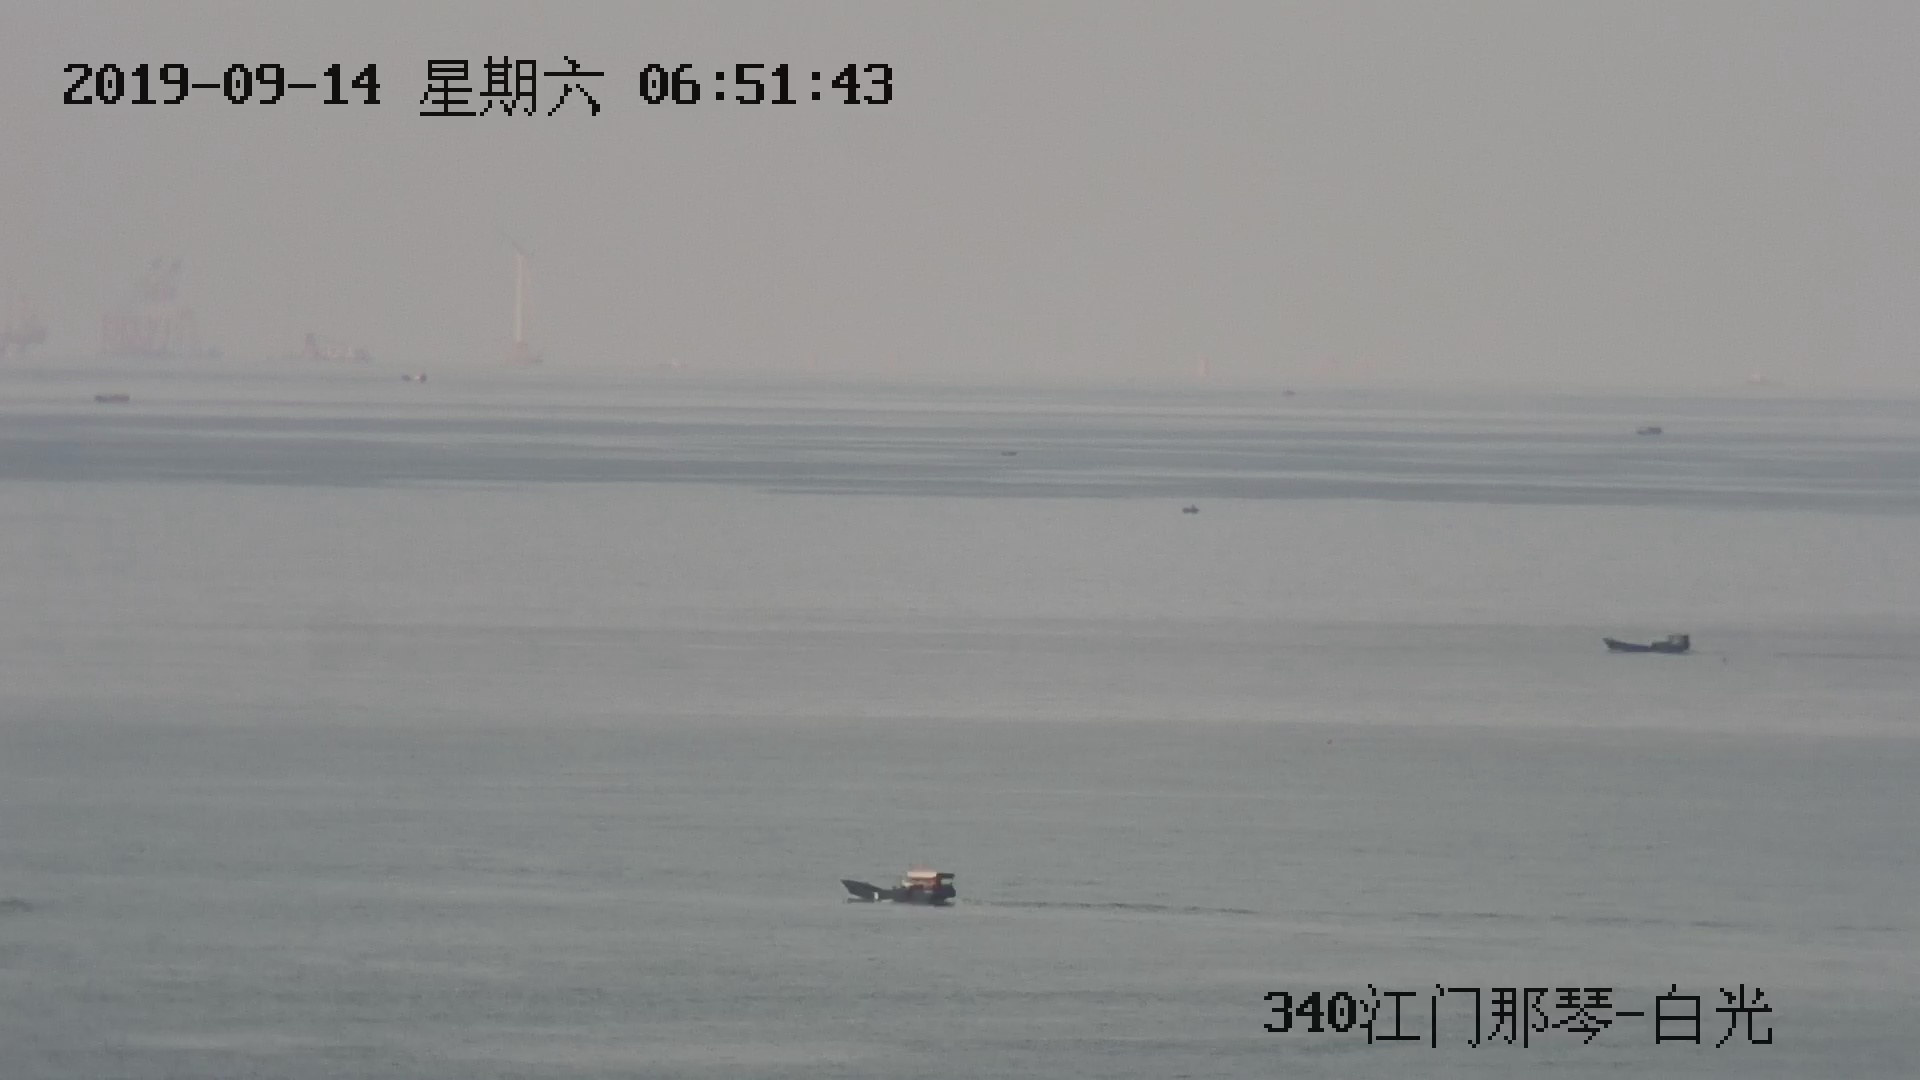ship: (843, 869, 959, 907), (1602, 633, 1691, 657)
